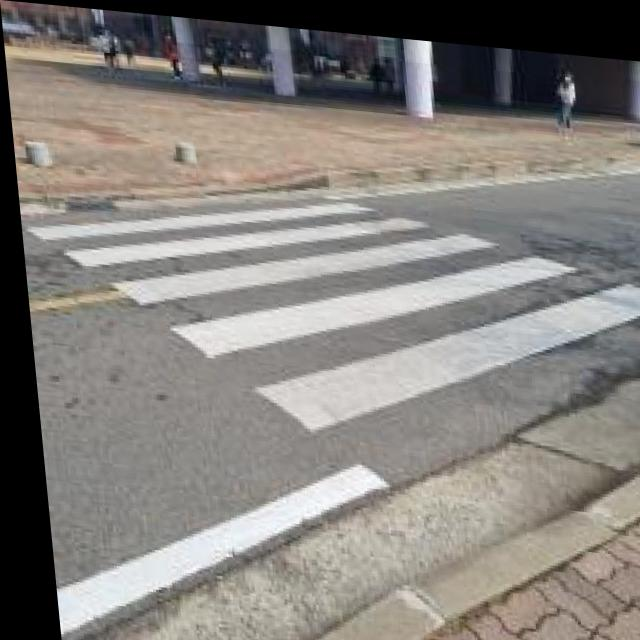zebra: (22, 212, 640, 425)
